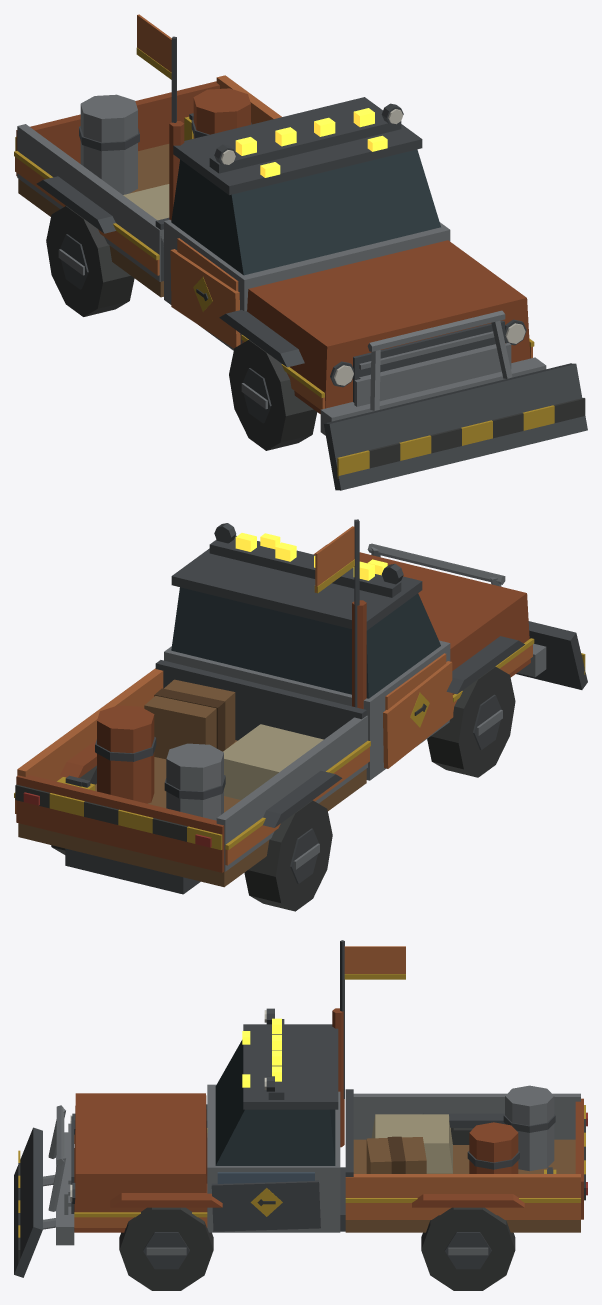
Rendered from long_haul_lead_truck.glb.
The picture shows the model from 3 angles, top to bottom: view 1: azimuth 30°, elevation 25°; view 2: azimuth 150°, elevation 25°; view 3: azimuth 270°, elevation 25°; orthographic projection. The views are drawn at different scales.
Parts seen in each view (by area): view 1: body, wheel_rr, wheel_fr; view 2: body, wheel_rr, wheel_fr; view 3: body, wheel_fl, wheel_rl.
Part boxes in pixels (x1,y1,x2,y2): body: [14, 14, 587, 490]; wheel_rr: [46, 206, 134, 316]; wheel_fr: [229, 340, 317, 450]; body: [14, 519, 587, 894]; wheel_rr: [244, 800, 332, 911]; wheel_fr: [427, 666, 515, 777]; body: [14, 940, 587, 1277]; wheel_fl: [119, 1207, 213, 1290]; wheel_rl: [421, 1207, 515, 1290].
Bounding box in the file's own units: 2.3 × 2.88 × 5.61.
